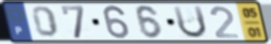0: (31, 4, 61, 39)
2: (209, 5, 243, 40)
6: (135, 4, 164, 40), (102, 4, 131, 40)
7: (59, 4, 88, 40)
U: (171, 4, 209, 40)
